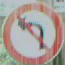Don't turn left: (3, 4, 58, 58)
